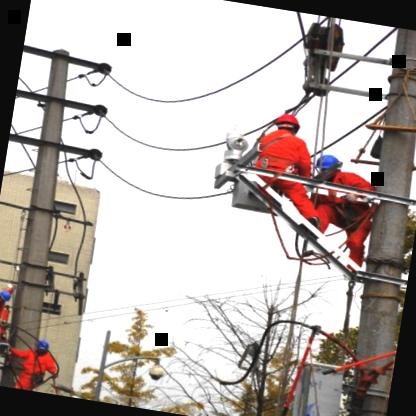helmet: (312, 149, 345, 182), (269, 110, 304, 140), (31, 336, 55, 358), (0, 287, 15, 304)
